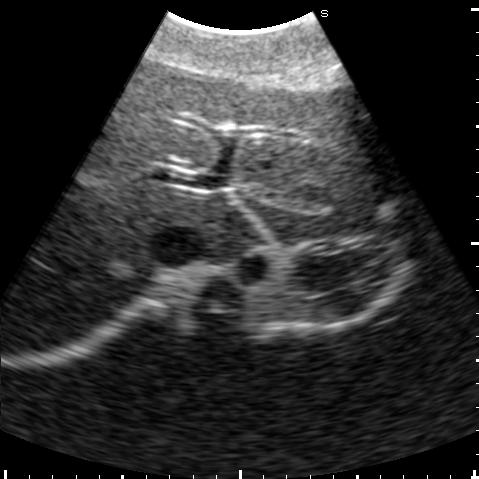IVC: (143, 224, 204, 263)
S1: (199, 193, 262, 261)
S2: (236, 177, 413, 244)
S3: (226, 82, 405, 206)
